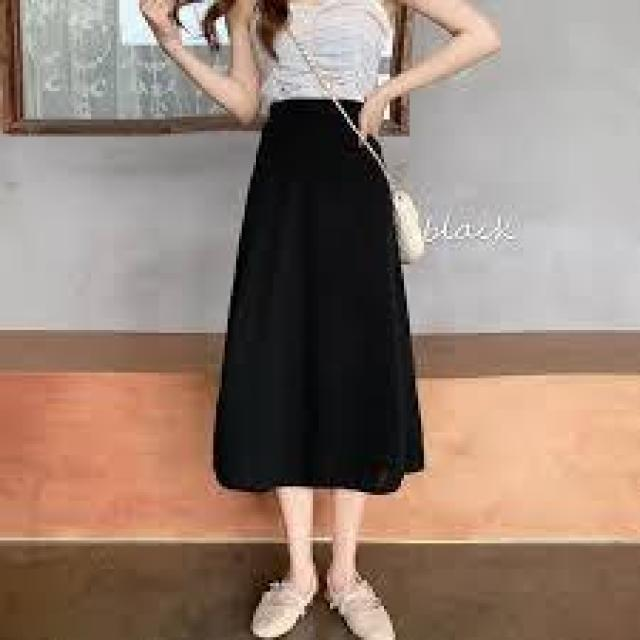skirt: (191, 87, 475, 530)
